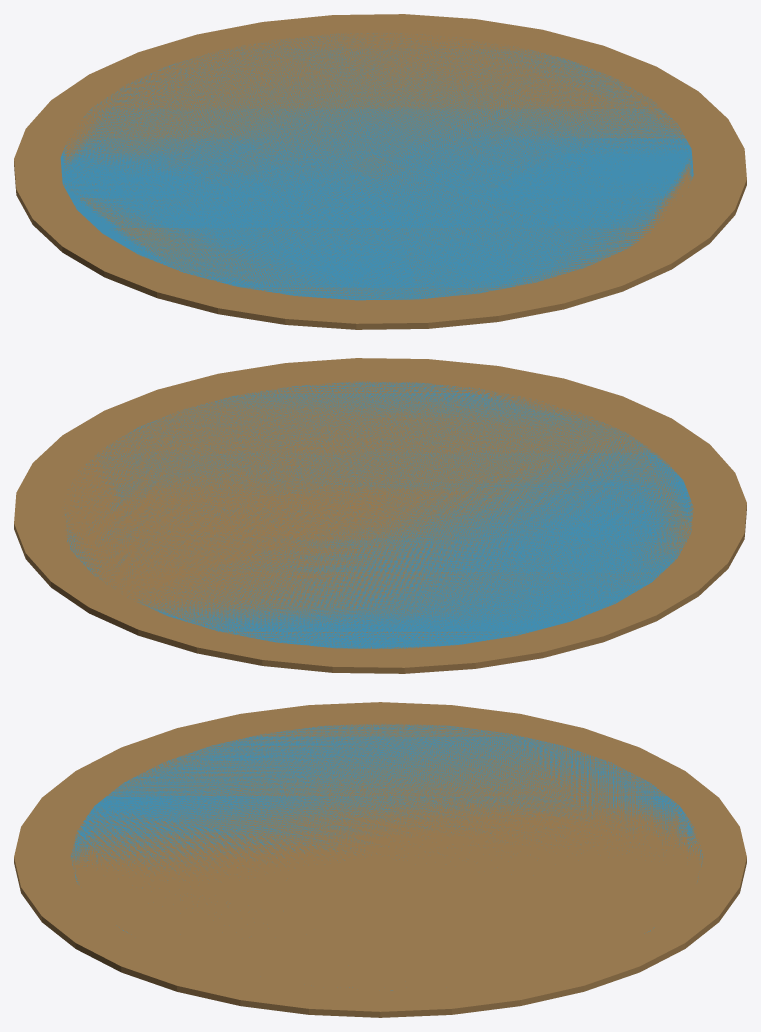
File: lake.glb
The picture shows the model from 3 angles, top to bottom: view 1: azimuth 30°, elevation 25°; view 2: azimuth 150°, elevation 25°; view 3: azimuth 270°, elevation 25°; orthographic projection.
Visible parts, largest first — view 1: Shore, Water; view 2: Shore, Water; view 3: Shore, Water.
Boxes of the visible parts, box(x1,y1,x2,y2) form: Shore: box(14, 14, 746, 329); Water: box(60, 33, 693, 300); Shore: box(14, 358, 746, 673); Water: box(64, 381, 693, 648); Shore: box(14, 702, 746, 1017); Water: box(70, 723, 703, 990).
Size of the model in its own units: 4.4 by 0.04 by 4.4.
